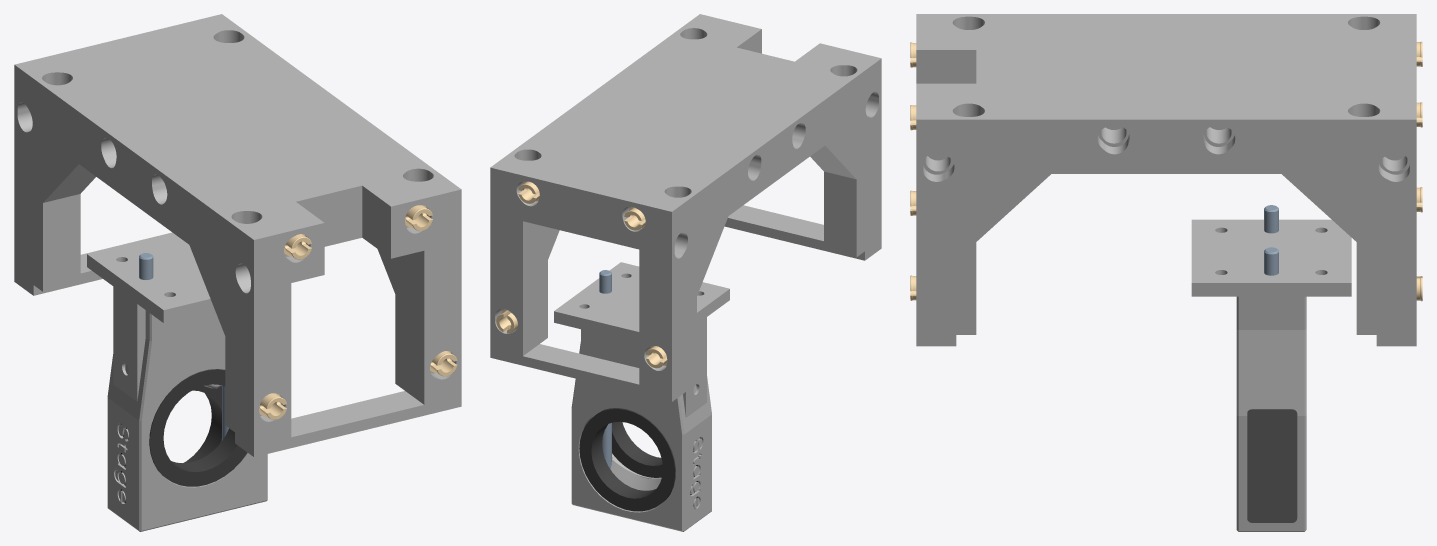
The model's file is ASS_-_3002_-_CASAUTSTGR22_-_A_BD.glb.
The picture shows the model from 3 angles, left to right: view 1: azimuth 30°, elevation 25°; view 2: azimuth 150°, elevation 25°; view 3: azimuth 270°, elevation 25°; orthographic projection. The views are drawn at different scales.
Parts seen in each view (by area): view 1: PRT - 3016 - CASAUTSTG:1, PRT - 3002 - OBJMNT - A:1, tmp_holder_endstop_nema11:1, BUY - Adapter - SM1 thread to RMS thread:1, BUY - Adapter - SM1 thread to RMS thread:2, BUY - LEGO technic - 3_4 pin - art. no. 32002:4, BUY - LEGO technic - 3_4 pin - art. no. 32002:3, BUY - LEGO technic - 3_4 pin - art. no. 32002:2, BUY - LEGO technic - 3_4 pin - art. no. 32002:7; view 2: PRT - 3016 - CASAUTSTG:1, PRT - 3002 - OBJMNT - A:1, tmp_holder_endstop_nema11:1, BUY - Adapter - SM1 thread to RMS thread:2, BUY - Adapter - SM1 thread to RMS thread:1, ISO 4762 - Hex socket head cap screw - M3 x 55 - 8.8 - A2K:1; view 3: PRT - 3016 - CASAUTSTG:1, PRT - 3002 - OBJMNT - A:1, tmp_holder_endstop_nema11:1, PRT - 5005 - STKCAUHNDCRU25x10:2.
Boxes of the visible parts, left/top/right/bottom form: PRT - 3016 - CASAUTSTG:1: left=14, top=14, right=461, bottom=457; PRT - 3002 - OBJMNT - A:1: left=107, top=251, right=267, bottom=531; tmp_holder_endstop_nema11:1: left=87, top=233, right=214, bottom=401; BUY - Adapter - SM1 thread to RMS thread:1: left=149, top=369, right=247, bottom=486; BUY - Adapter - SM1 thread to RMS thread:2: left=183, top=386, right=221, bottom=463; BUY - LEGO technic - 3_4 pin - art. no. 32002:4: left=259, top=393, right=286, bottom=419; BUY - LEGO technic - 3_4 pin - art. no. 32002:3: left=405, top=205, right=432, bottom=230; BUY - LEGO technic - 3_4 pin - art. no. 32002:2: left=284, top=234, right=311, bottom=259; BUY - LEGO technic - 3_4 pin - art. no. 32002:7: left=430, top=351, right=457, bottom=376; PRT - 3016 - CASAUTSTG:1: left=490, top=14, right=881, bottom=401; PRT - 3002 - OBJMNT - A:1: left=571, top=279, right=711, bottom=531; tmp_holder_endstop_nema11:1: left=554, top=262, right=729, bottom=417; BUY - Adapter - SM1 thread to RMS thread:2: left=579, top=408, right=675, bottom=511; BUY - Adapter - SM1 thread to RMS thread:1: left=612, top=421, right=662, bottom=477; ISO 4762 - Hex socket head cap screw - M3 x 55 - 8.8 - A2K:1: left=599, top=270, right=611, bottom=468; PRT - 3016 - CASAUTSTG:1: left=916, top=14, right=1416, bottom=346; PRT - 3002 - OBJMNT - A:1: left=1236, top=226, right=1306, bottom=531; tmp_holder_endstop_nema11:1: left=1191, top=219, right=1351, bottom=296; PRT - 5005 - STKCAUHNDCRU25x10:2: left=1247, top=409, right=1297, bottom=522.
Bounding box in the file's own units: 50 × 95.5 × 102.
